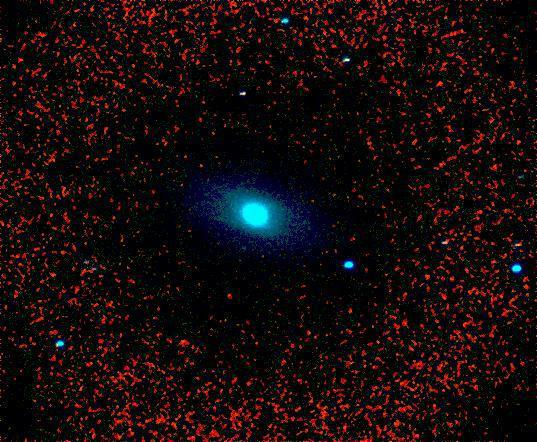star: (185, 156, 215, 186)
